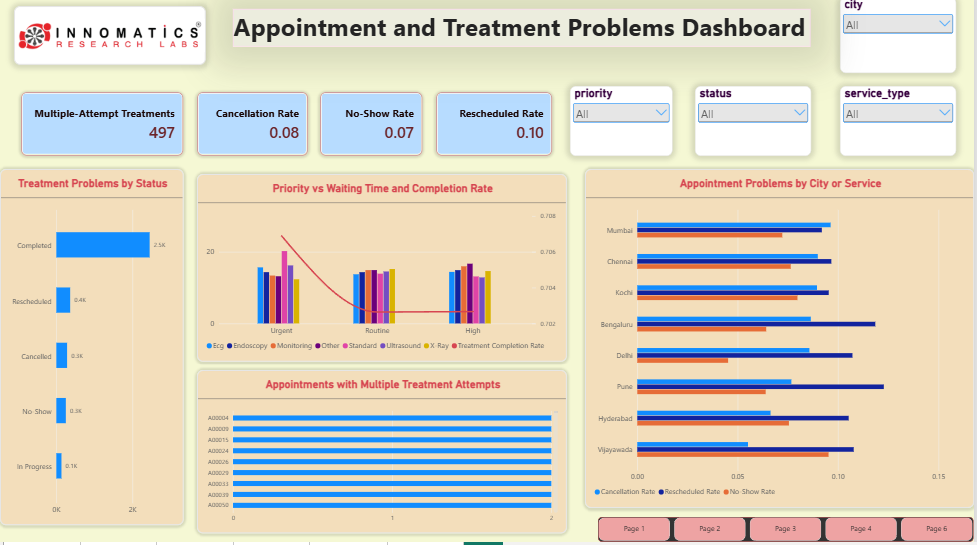

What the dashboard file says about the page in this screenshot:
{"tool":"powerbi","page":{"name":"Page 5","canvas":[1920,1080],"ordinal":4},"visuals":[{"type":"cardVisual","fields":{"Data":["treatments.Rescheduled Rate"]},"box":[858.8,194.1,229.3,126],"z":0},{"type":"cardVisual","fields":{"Data":["treatments.Multiple-Attempt Treatments"]},"box":[41.3,194.1,320,125.9],"z":1000},{"type":"cardVisual","fields":{"Data":["treatments.Cancellation Rate"]},"box":[388.1,194.1,218.8,125.9],"z":2000},{"type":"cardVisual","fields":{"Data":["treatments.No-Show Rate"]},"box":[629.7,194.1,202.3,125.9],"z":3000},{"type":"barChart","title":"Appointments with Multiple Treatment Attempts","fields":{"Category":["appointments.appointment_id"],"Y":["appointments.Treatment Attempts"]},"box":[387.3,742,729.3,322.1],"z":4000},{"type":"clusteredBarChart","title":"Treatment Problems by Status","fields":{"Category":["treatments.status"],"Y":["treatments.Total_Treatments"]},"box":[0,345.6,361.9,702.1],"z":5000},{"type":"clusteredBarChart","title":"Appointment Problems by City or Service","fields":{"Category":["patients.city","appointments.service_type"],"Y":["treatments.Cancellation Rate","treatments.Rescheduled Rate","treatments.No-Show Rate"]},"box":[1152.8,345.6,767.3,667.8],"z":6000},{"type":"lineClusteredColumnComboChart","title":"Priority vs Waiting Time and Completion Rate","fields":{"Category":["appointments.priority"],"Series":["rooms.equipment_type"],"Y":["appointments.Average_Waiting_time"],"Y2":["treatments.Treatment Completion Rate"]},"box":[387.3,354.7,728.8,369.5],"z":7000},{"type":"slicer","fields":{"Values":["appointments.service_type"]},"box":[1655.7,181.7,229.2,138.3],"z":8000},{"type":"slicer","fields":{"Values":["patients.city"]},"box":[1655.7,6.2,229,150],"z":9000},{"type":"textbox","box":[459.7,29,1138.3,74.2],"z":10000},{"type":"slicer","fields":{"Values":["appointments.priority"]},"box":[1123.1,181.7,202.3,138.3],"z":11000},{"type":"slicer","fields":{"Values":["treatments.status"]},"box":[1368.8,181.7,229.2,138.3],"z":12000},{"type":"image","box":[26.8,22.7,377.8,115.6],"z":13000},{"type":"pageNavigator","box":[1178.1,1031.5,740.2,48.9],"z":14000}]}

Visuals, with their boxes in screenshot pixels (x1, y1, x2, y2), scaled from the page's 1920x1080 canvas onto the 977x545 screenshot:
cardVisual - treatments.Rescheduled Rate: [left=437, top=98, right=554, bottom=162]
cardVisual - treatments.Multiple-Attempt Treatments: [left=21, top=98, right=184, bottom=161]
cardVisual - treatments.Cancellation Rate: [left=197, top=98, right=309, bottom=161]
cardVisual - treatments.No-Show Rate: [left=320, top=98, right=423, bottom=161]
"Appointments with Multiple Treatment Attempts" barChart: [left=197, top=374, right=568, bottom=537]
"Treatment Problems by Status" clusteredBarChart: [left=0, top=174, right=184, bottom=529]
"Appointment Problems by City or Service" clusteredBarChart: [left=587, top=174, right=976, bottom=511]
"Priority vs Waiting Time and Completion Rate" lineClusteredColumnComboChart: [left=197, top=179, right=568, bottom=365]
slicer - appointments.service_type: [left=843, top=92, right=959, bottom=161]
slicer - patients.city: [left=843, top=3, right=959, bottom=79]
textbox: [left=234, top=15, right=813, bottom=52]
slicer - appointments.priority: [left=571, top=92, right=674, bottom=161]
slicer - treatments.status: [left=697, top=92, right=813, bottom=161]
image: [left=14, top=11, right=206, bottom=70]
pageNavigator: [left=599, top=521, right=976, bottom=544]
